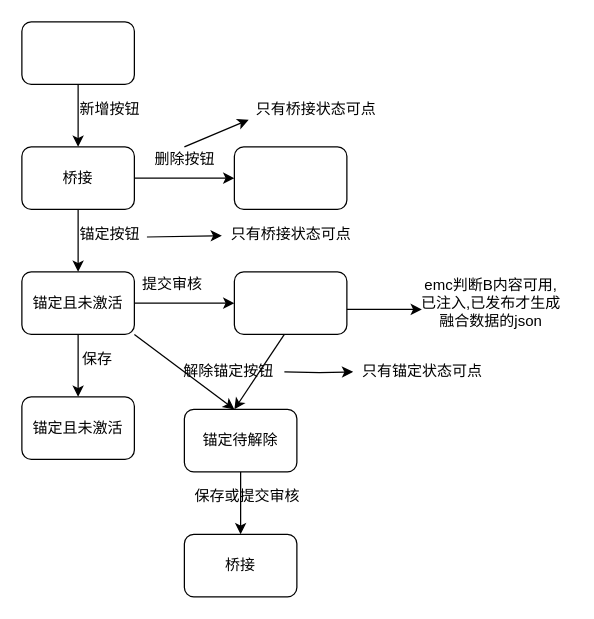
The diagram is 594 pixels wide and 619 high, and some of its shapes have lost their labels. The centre of each missing label's shape, as x and y in pixels:
A内容进入详情: the point at 77,52
逻辑删除status=9: the point at 290,177
锚定且激活: the point at 290,302
